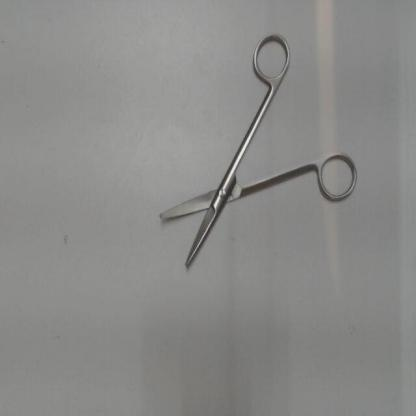Curved Mayo Scissors: (151, 25, 363, 272)
